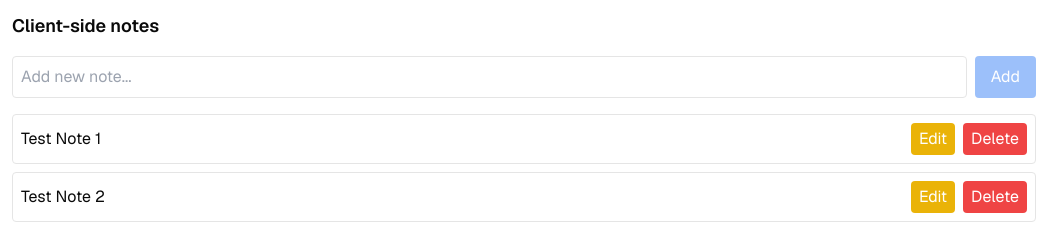
Test case: NotesClient › enters edit mode when edit button clicked
Click the button "Edit" in the row of "Test Note 1".
click(933, 139)  # box x1=911 y1=123 x2=955 y2=155
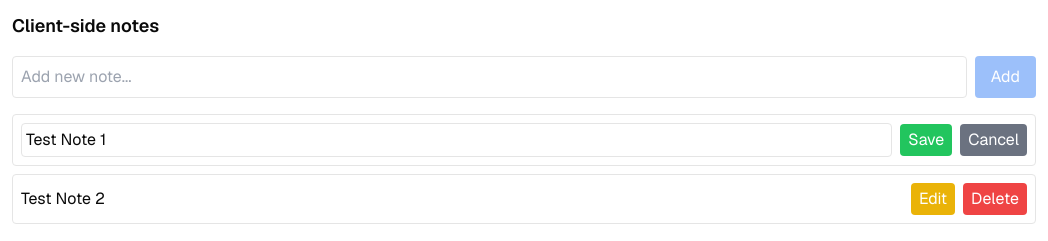
Result: the field showing "Test Note 1" is shown at x1=21 y1=123 x2=892 y2=157
Result: the button "Save" is shown at x1=900 y1=124 x2=952 y2=156
Result: the button "Cancel" is shown at x1=960 y1=124 x2=1027 y2=156
